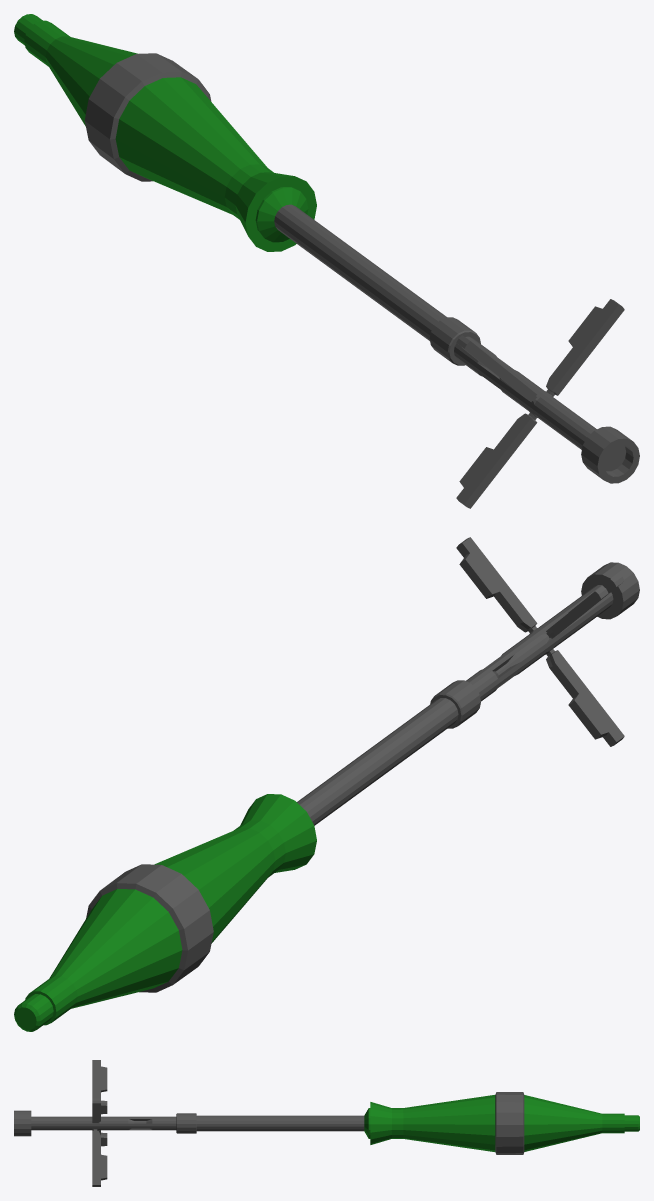
Rendered from Rocket ammo.fbx.
The picture shows the model from 3 angles, top to bottom: view 1: azimuth 30°, elevation 25°; view 2: azimuth 150°, elevation 25°; view 3: azimuth 270°, elevation 25°; orthographic projection. The views are drawn at different scales.
Parts seen in each view (by area): view 1: Cylinder.001; view 2: Cylinder.001; view 3: Cylinder.001.
Boxes of the visible parts, <box> form: Cylinder.001: <box>14,14,639,508</box>; Cylinder.001: <box>14,537,639,1031</box>; Cylinder.001: <box>14,1060,639,1186</box>.
Bounding box in the file's own units: 95.76 × 95.79 × 613.
